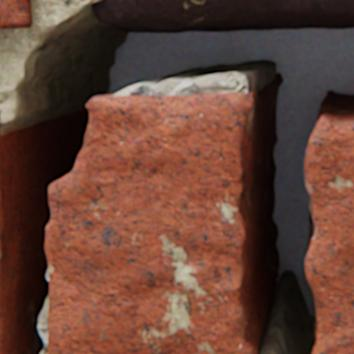brick: (103, 0, 353, 9), (0, 160, 6, 353), (0, 0, 33, 28), (0, 112, 1, 137)
broken_brick: (45, 92, 255, 353), (304, 119, 353, 353)
crack: (0, 0, 353, 353)
